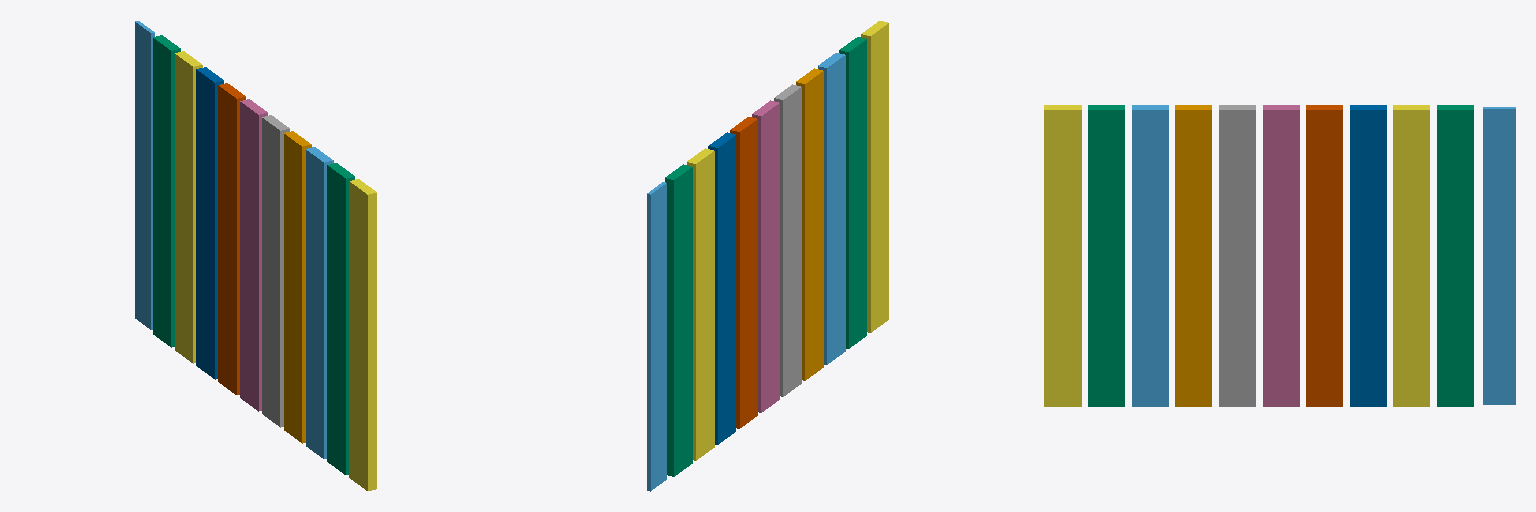
URDF robot description (window_livingroom):
<?xml version="1.0" ?>

<robot name="window_livingroom">
  
  <gazebo reference="wbase_livingroom">
    <material>Gazebo/GrassFloor</material>
  </gazebo>

  <link name="world"/>

  <joint name="wlink_joint_livingroom1" type="revolute">
    <axis xyz="0 0 1"/>
    <parent link="world"/>
    <origin rpy="0 0 0" xyz="10.765 5.575 1.5"/>
    <limit effort="1000.0" lower="-0" upper="1.57" velocity="0.5"/>
    <child link="wlink_livingroom1"/>
    <dynamics damping="10" friction="1000"/>
  </joint>
  
  <joint name="wlink_joint_livingroom2" type="revolute">
    <axis xyz="0 0 1"/>
    <parent link="world"/>
    <origin rpy="0 0 0" xyz="10.765 5.375 1.5"/>
    <limit effort="1000.0" lower="-0" upper="1.57" velocity="0.5"/>
    <child link="wlink_livingroom2"/>
    <dynamics damping="10" friction="1000"/>
  </joint>
  
  <joint name="wlink_joint_livingroom3" type="revolute">
    <axis xyz="0 0 1"/>
    <parent link="world"/>
    <origin rpy="0 0 0" xyz="10.765 5.175 1.5"/>
    <limit effort="1000.0" lower="-0" upper="1.57" velocity="0.5"/>
    <child link="wlink_livingroom3"/>
    <dynamics damping="10" friction="1000"/>
  </joint>
  
  <joint name="wlink_joint_livingroom4" type="revolute">
    <axis xyz="0 0 1"/>
    <parent link="world"/>
    <origin rpy="0 0 0" xyz="10.765 4.975 1.5"/>
    <limit effort="1000.0" lower="-0" upper="1.57" velocity="0.5"/>
    <child link="wlink_livingroom4"/>
    <dynamics damping="10" friction="1000"/>
  </joint>
  
  <joint name="wlink_joint_livingroom5" type="revolute">
    <axis xyz="0 0 1"/>
    <parent link="world"/>
    <origin rpy="0 0 0" xyz="10.765 4.775 1.5"/>
    <limit effort="1000.0" lower="-0" upper="1.57" velocity="0.5"/>
    <child link="wlink_livingroom5"/>
    <dynamics damping="10" friction="1000"/>
  </joint>
  
  <joint name="wlink_joint_livingroom6" type="revolute">
    <axis xyz="0 0 1"/>
    <parent link="world"/>
    <origin rpy="0 0 0" xyz="10.765 4.575 1.5"/>
    <limit effort="1000.0" lower="-0" upper="1.57" velocity="0.5"/>
    <child link="wlink_livingroom6"/>
    <dynamics damping="10" friction="1000"/>
  </joint>
  
  <joint name="wlink_joint_livingroom7" type="revolute">
    <axis xyz="0 0 1"/>
    <parent link="world"/>
    <origin rpy="0 0 0" xyz="10.765 4.375 1.5"/>
    <limit effort="1000.0" lower="-0" upper="1.57" velocity="0.5"/>
    <child link="wlink_livingroom7"/>
    <dynamics damping="10" friction="1000"/>
  </joint>
  
  <joint name="wlink_joint_livingroom8" type="revolute">
    <axis xyz="0 0 1"/>
    <parent link="world"/>
    <origin rpy="0 0 0" xyz="10.765 4.175 1.5"/>
    <limit effort="1000.0" lower="-0" upper="1.57" velocity="0.5"/>
    <child link="wlink_livingroom8"/>
    <dynamics damping="10" friction="1000"/>
  </joint>
  
  <joint name="wlink_joint_livingroom9" type="revolute">
    <axis xyz="0 0 1"/>
    <parent link="world"/>
    <origin rpy="0 0 0" xyz="10.765 3.975 1.5"/>
    <limit effort="1000.0" lower="-0" upper="1.57" velocity="0.5"/>
    <child link="wlink_livingroom9"/>
    <dynamics damping="10" friction="1000"/>
  </joint>
  
  <joint name="wlink_joint_livingroom:" type="revolute">
    <axis xyz="0 0 1"/>
    <parent link="world"/>
    <origin rpy="0 0 0" xyz="10.765 3.775 1.5"/>
    <limit effort="1000.0" lower="-0" upper="1.57" velocity="0.5"/>
    <child link="wlink_livingroom:"/>
    <dynamics damping="10" friction="1000"/>
  </joint>
  
  <joint name="wlink_joint_livingroom;" type="revolute">
    <axis xyz="0 0 1"/>
    <parent link="world"/>
    <origin rpy="0 0 0" xyz="10.765 3.575 1.5"/>
    <limit effort="1000.0" lower="-0" upper="1.57" velocity="0.5"/>
    <child link="wlink_livingroom;"/>
    <dynamics damping="10" friction="1000"/>
  </joint>
  

  <link name="wlink_livingroom1">
    <inertial>
      <mass value="10"/>
      <origin xyz="0 0 0"/>
      <inertia ixx="1.0" ixy="0.0" ixz="0.0" iyy="0.1" iyz="0.0" izz="0.1"/>
    </inertial>
    <visual>
      <origin rpy="0 0 1.57" xyz="0 0 0"/>
      <geometry>
        <box size="0.15 0.02 1.5"/>
      </geometry>
    </visual>
    <collision>
      <origin rpy="0 0 90" xyz="0 0 0"/>
      <geometry>
        <box size="0.15 0.02 1.5"/>
      </geometry>
    </collision>
  </link>
  <gazebo reference="wlink_livingroom1">
    <material>Gazebo/RustySteel</material>
    <turnGravityOff>true</turnGravityOff>
  </gazebo>

  <link name="wlink_livingroom2">
    <inertial>
      <mass value="10"/>
      <origin xyz="0 0 0"/>
      <inertia ixx="1.0" ixy="0.0" ixz="0.0" iyy="0.1" iyz="0.0" izz="0.1"/>
    </inertial>
    <visual>
      <origin rpy="0 0 1.57" xyz="0 0 0"/>
      <geometry>
        <box size="0.17 0.05 1.5"/>
      </geometry>
    </visual>
    <collision>
      <origin rpy="0 0 90" xyz="0 0 0"/>
      <geometry>
        <box size="0.17 0.05 1.5"/>
      </geometry>
    </collision>
  </link>
  <gazebo reference="wlink_livingroom2">
    <material>Gazebo/RustySteel</material>
    <turnGravityOff>true</turnGravityOff>
  </gazebo>
  
  <link name="wlink_livingroom3">
    <inertial>
      <mass value="10"/>
      <origin xyz="0 0 0"/>
      <inertia ixx="1.0" ixy="0.0" ixz="0.0" iyy="0.1" iyz="0.0" izz="0.1"/>
    </inertial>
    <visual>
      <origin rpy="0 0 1.57" xyz="0 0 0"/>
      <geometry>
        <box size="0.17 0.05 1.5"/>
      </geometry>
    </visual>
    <collision>
      <origin rpy="0 0 90" xyz="0 0 0"/>
      <geometry>
        <box size="0.17 0.05 1.5"/>
      </geometry>
    </collision>
  </link>
  <gazebo reference="wlink_livingroom3">
    <material>Gazebo/RustySteel</material>
    <turnGravityOff>true</turnGravityOff>
  </gazebo>
  
  <link name="wlink_livingroom4">
    <inertial>
      <mass value="10"/>
      <origin xyz="0 0 0"/>
      <inertia ixx="1.0" ixy="0.0" ixz="0.0" iyy="0.1" iyz="0.0" izz="0.1"/>
    </inertial>
    <visual>
      <origin rpy="0 0 1.57" xyz="0 0 0"/>
      <geometry>
        <box size="0.17 0.05 1.5"/>
      </geometry>
    </visual>
    <collision>
      <origin rpy="0 0 90" xyz="0 0 0"/>
      <geometry>
        <box size="0.17 0.05 1.5"/>
      </geometry>
    </collision>
  </link>
  <gazebo reference="wlink_livingroom4">
    <material>Gazebo/RustySteel</material>
    <turnGravityOff>true</turnGravityOff>
  </gazebo>
  
  <link name="wlink_livingroom5">
    <inertial>
      <mass value="10"/>
      <origin xyz="0 0 0"/>
      <inertia ixx="1.0" ixy="0.0" ixz="0.0" iyy="0.1" iyz="0.0" izz="0.1"/>
    </inertial>
    <visual>
      <origin rpy="0 0 1.57" xyz="0 0 0"/>
      <geometry>
        <box size="0.17 0.05 1.5"/>
      </geometry>
    </visual>
    <collision>
      <origin rpy="0 0 90" xyz="0 0 0"/>
      <geometry>
        <box size="0.17 0.05 1.5"/>
      </geometry>
    </collision>
  </link>
  <gazebo reference="wlink_livingroom5">
    <material>Gazebo/RustySteel</material>
    <turnGravityOff>true</turnGravityOff>
  </gazebo>

  <link name="wlink_livingroom6">
    <inertial>
      <mass value="10"/>
      <origin xyz="0 0 0"/>
      <inertia ixx="1.0" ixy="0.0" ixz="0.0" iyy="0.1" iyz="0.0" izz="0.1"/>
    </inertial>
    <visual>
      <origin rpy="0 0 1.57" xyz="0 0 0"/>
      <geometry>
        <box size="0.17 0.05 1.5"/>
      </geometry>
    </visual>
    <collision>
      <origin rpy="0 0 90" xyz="0 0 0"/>
      <geometry>
        <box size="0.17 0.05 1.5"/>
      </geometry>
    </collision>
  </link>
  <gazebo reference="wlink_livingroom6">
    <material>Gazebo/RustySteel</material>
    <turnGravityOff>true</turnGravityOff>
  </gazebo>
  
  <link name="wlink_livingroom7">
    <inertial>
      <mass value="10"/>
      <origin xyz="0 0 0"/>
      <inertia ixx="1.0" ixy="0.0" ixz="0.0" iyy="0.1" iyz="0.0" izz="0.1"/>
    </inertial>
    <visual>
      <origin rpy="0 0 1.57" xyz="0 0 0"/>
      <geometry>
        <box size="0.17 0.05 1.5"/>
      </geometry>
    </visual>
    <collision>
      <origin rpy="0 0 90" xyz="0 0 0"/>
      <geometry>
        <box size="0.17 0.05 1.5"/>
      </geometry>
    </collision>
  </link>
  <gazebo reference="wlink_livingroom7">
    <material>Gazebo/RustySteel</material>
    <turnGravityOff>true</turnGravityOff>
  </gazebo>
  
  <link name="wlink_livingroom8">
    <inertial>
      <mass value="10"/>
      <origin xyz="0 0 0"/>
      <inertia ixx="1.0" ixy="0.0" ixz="0.0" iyy="0.1" iyz="0.0" izz="0.1"/>
    </inertial>
    <visual>
      <origin rpy="0 0 1.57" xyz="0 0 0"/>
      <geometry>
        <box size="0.17 0.05 1.5"/>
      </geometry>
    </visual>
    <collision>
      <origin rpy="0 0 90" xyz="0 0 0"/>
      <geometry>
        <box size="0.17 0.05 1.5"/>
      </geometry>
    </collision>
  </link>
  <gazebo reference="wlink_livingroom8">
    <material>Gazebo/RustySteel</material>
    <turnGravityOff>true</turnGravityOff>
  </gazebo>
  
  <link name="wlink_livingroom9">
    <inertial>
      <mass value="10"/>
      <origin xyz="0 0 0"/>
      <inertia ixx="1.0" ixy="0.0" ixz="0.0" iyy="0.1" iyz="0.0" izz="0.1"/>
    </inertial>
    <visual>
      <origin rpy="0 0 1.57" xyz="0 0 0"/>
      <geometry>
        <box size="0.17 0.05 1.5"/>
      </geometry>
    </visual>
    <collision>
      <origin rpy="0 0 90" xyz="0 0 0"/>
      <geometry>
        <box size="0.17 0.05 1.5"/>
      </geometry>
    </collision>
  </link>
  <gazebo reference="wlink_livingroom9">
    <material>Gazebo/RustySteel</material>
    <turnGravityOff>true</turnGravityOff>
  </gazebo>
  
  <link name="wlink_livingroom:">
    <inertial>
      <mass value="10"/>
      <origin xyz="0 0 0"/>
      <inertia ixx="1.0" ixy="0.0" ixz="0.0" iyy="0.1" iyz="0.0" izz="0.1"/>
    </inertial>
    <visual>
      <origin rpy="0 0 1.57" xyz="0 0 0"/>
      <geometry>
        <box size="0.17 0.05 1.5"/>
      </geometry>
    </visual>
    <collision>
      <origin rpy="0 0 90" xyz="0 0 0"/>
      <geometry>
        <box size="0.17 0.05 1.5"/>
      </geometry>
    </collision>
  </link>
  <gazebo reference="wlink_livingroom:">
    <material>Gazebo/RustySteel</material>
    <turnGravityOff>true</turnGravityOff>
  </gazebo>
  
  <link name="wlink_livingroom;">
    <inertial>
      <mass value="10"/>
      <origin xyz="0 0 0"/>
      <inertia ixx="1.0" ixy="0.0" ixz="0.0" iyy="0.1" iyz="0.0" izz="0.1"/>
    </inertial>
    <visual>
      <origin rpy="0 0 1.57" xyz="0 0 0"/>
      <geometry>
        <box size="0.17 0.05 1.5"/>
      </geometry>
    </visual>
    <collision>
      <origin rpy="0 0 90" xyz="0 0 0"/>
      <geometry>
        <box size="0.17 0.05 1.5"/>
      </geometry>
    </collision>
  </link>
  <gazebo reference="wlink_livingroom;">
    <material>Gazebo/RustySteel</material>
    <turnGravityOff>true</turnGravityOff>
  </gazebo>
  
  
</robot>

--- What the picture shows (computed from the rendered views, not written in the file) ---
3 views of the same robot in one strip: view 1: azimuth 30°, elevation 25°; view 2: azimuth 150°, elevation 25°; view 3: azimuth 270°, elevation 25° (orthographic).
Robot: window_livingroom — 12 links, 11 joints (11 revolute); root link world; default pose: all joints at 0.
Visible links, largest first — view 1: wlink_livingroom;, wlink_livingroom2, wlink_livingroom4, wlink_livingroom:, wlink_livingroom5, wlink_livingroom6, wlink_livingroom7, wlink_livingroom8, wlink_livingroom9, wlink_livingroom3, wlink_livingroom1; view 2: wlink_livingroom2, wlink_livingroom3, wlink_livingroom6, wlink_livingroom7, wlink_livingroom8, wlink_livingroom;, wlink_livingroom9, wlink_livingroom5, wlink_livingroom4, wlink_livingroom:, wlink_livingroom1; view 3: wlink_livingroom;, wlink_livingroom2, wlink_livingroom3, wlink_livingroom4, wlink_livingroom5, wlink_livingroom6, wlink_livingroom7, wlink_livingroom8, wlink_livingroom9, wlink_livingroom:, wlink_livingroom1.
Boxes of the visible links, x1,y1,x2,y2 form: wlink_livingroom;: [349, 179, 376, 490]; wlink_livingroom2: [153, 35, 180, 347]; wlink_livingroom4: [196, 67, 223, 379]; wlink_livingroom:: [327, 163, 354, 474]; wlink_livingroom5: [218, 83, 245, 394]; wlink_livingroom6: [240, 99, 267, 411]; wlink_livingroom7: [262, 115, 289, 427]; wlink_livingroom8: [284, 131, 311, 443]; wlink_livingroom9: [306, 147, 333, 458]; wlink_livingroom3: [175, 51, 202, 363]; wlink_livingroom1: [135, 21, 154, 329]; wlink_livingroom2: [665, 164, 692, 476]; wlink_livingroom3: [687, 148, 714, 460]; wlink_livingroom6: [752, 100, 779, 412]; wlink_livingroom7: [774, 84, 801, 396]; wlink_livingroom8: [796, 68, 823, 380]; wlink_livingroom;: [861, 21, 888, 332]; wlink_livingroom9: [818, 53, 845, 364]; wlink_livingroom5: [730, 117, 757, 428]; wlink_livingroom4: [708, 132, 735, 444]; wlink_livingroom:: [839, 37, 866, 348]; wlink_livingroom1: [647, 182, 666, 491]; wlink_livingroom;: [1044, 105, 1081, 406]; wlink_livingroom2: [1437, 105, 1473, 406]; wlink_livingroom3: [1393, 105, 1429, 406]; wlink_livingroom4: [1350, 105, 1386, 406]; wlink_livingroom5: [1306, 105, 1342, 406]; wlink_livingroom6: [1263, 105, 1299, 406]; wlink_livingroom7: [1219, 105, 1255, 406]; wlink_livingroom8: [1175, 105, 1211, 406]; wlink_livingroom9: [1132, 105, 1168, 406]; wlink_livingroom:: [1088, 105, 1124, 406]; wlink_livingroom1: [1483, 107, 1515, 404].
Size in the robot's own frame: 0.0501 by 2.16 by 1.5 metres.
Geometry: primitives only (box / cylinder / sphere), no mesh files.
